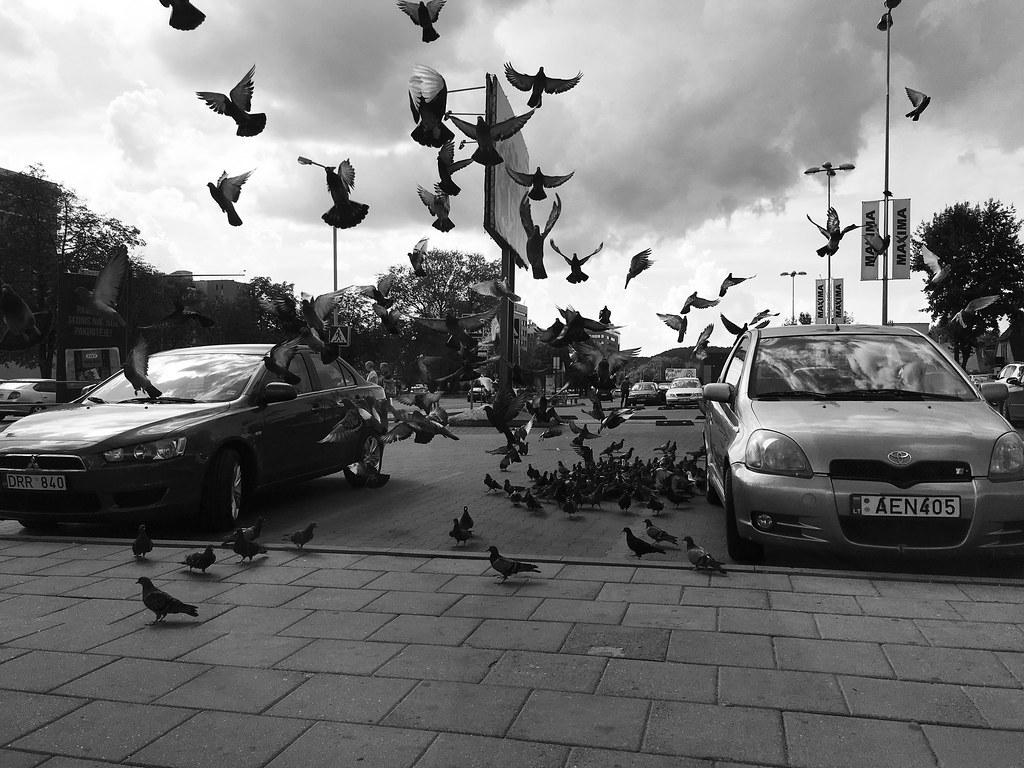car: (702, 322, 1024, 564), (1, 342, 392, 533), (665, 377, 705, 409), (628, 382, 661, 406)
